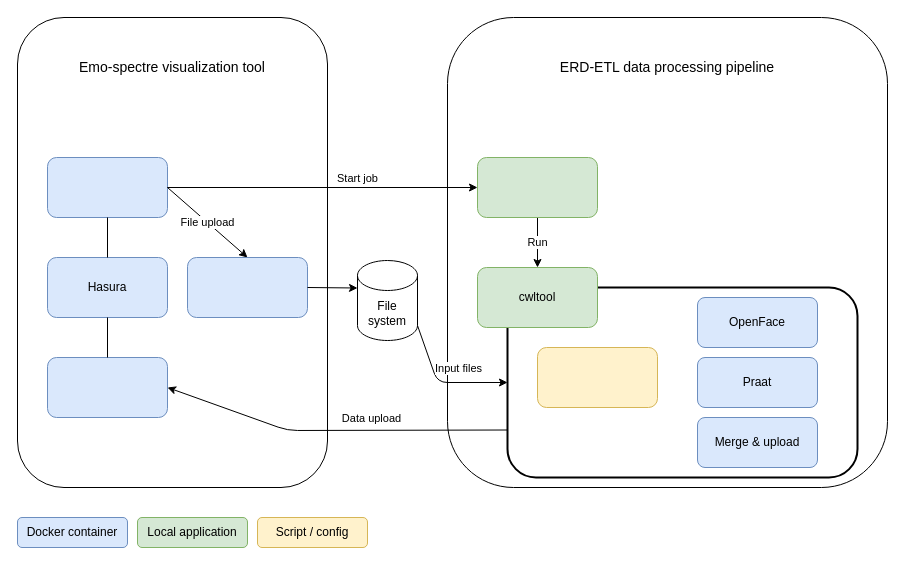
Image size: 905x565. Some labels were removed from this diagram. The centre of each missing label's shape, as x and y in pixels:
"CWL workflow" belongs at point 597,377.
"Database" belongs at point 107,387.
"emo-spectre webapp" belongs at point 107,187.
"Upload server" belongs at point 247,287.
"Xenon-flow" belongs at point 537,187.
